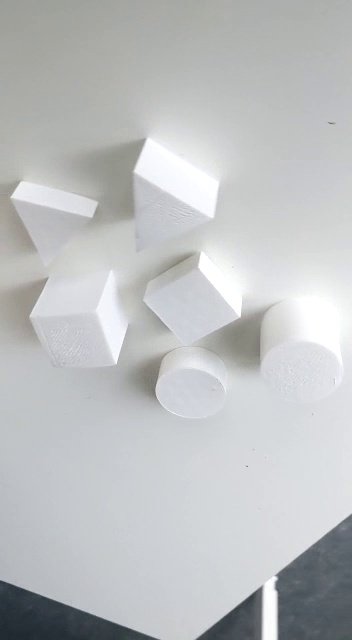Clyinder_short: (153, 344, 229, 422)
Cube: (30, 265, 130, 373)
Cube_short: (140, 248, 242, 355)
Cylinder: (257, 297, 346, 404)
Triangle: (128, 134, 221, 252)
Triangle_short: (5, 176, 101, 265)
